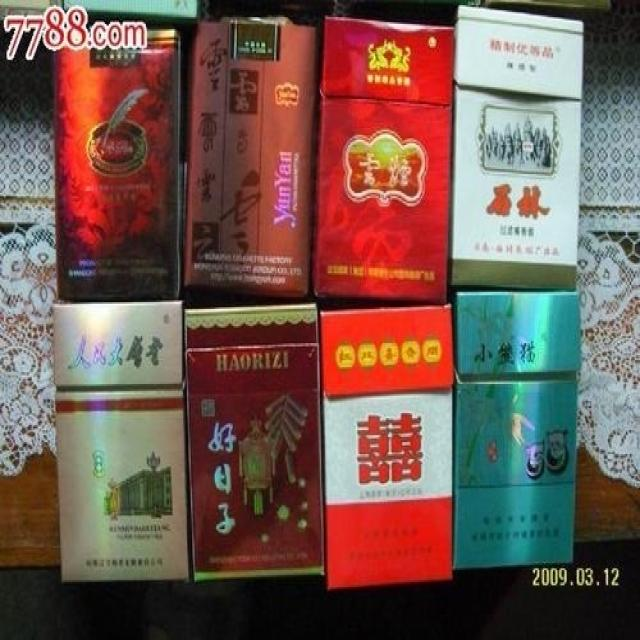box: (311, 17, 454, 300), (184, 300, 325, 582), (52, 300, 188, 582), (451, 5, 585, 290), (319, 305, 453, 587), (186, 17, 317, 297), (52, 29, 182, 304), (453, 292, 581, 568)
